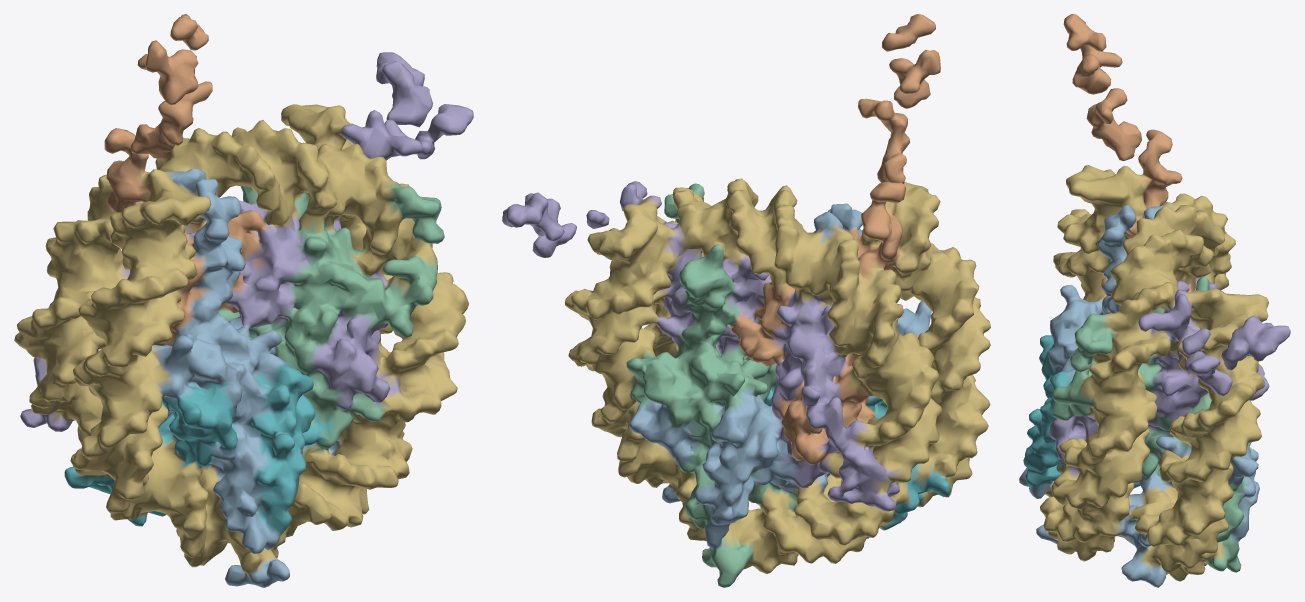
Rendered from pdb-1kx5-nucleosome.glb.
3 renders of one model, left to right at view 1: azimuth 30°, elevation 25°; view 2: azimuth 150°, elevation 25°; view 3: azimuth 270°, elevation 25°, orthographic. The views are drawn at different scales.
Visible parts, largest first — view 1: Nucleosome; view 2: Nucleosome; view 3: Nucleosome.
Part boxes in pixels (left/top/right/bottom): Nucleosome: left=14, top=14, right=473, bottom=587; Nucleosome: left=502, top=14, right=990, bottom=587; Nucleosome: left=1019, top=14, right=1290, bottom=587.
Size of the model in its own units: 12.32 by 15.45 by 7.52.
